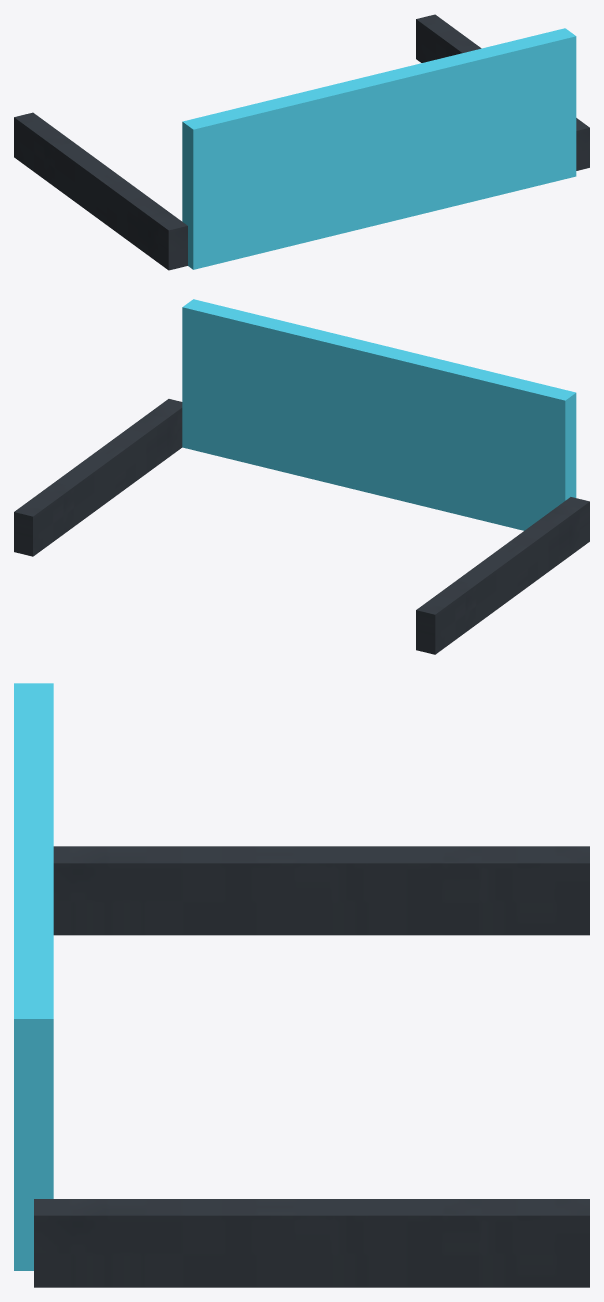
Rendered from acc_holo_visor.glb.
The picture shows the model from 3 angles, top to bottom: view 1: azimuth 30°, elevation 25°; view 2: azimuth 150°, elevation 25°; view 3: azimuth 270°, elevation 25°; orthographic projection. The views are drawn at different scales.
Visible parts, largest first — view 1: acc_holo_visor; view 2: acc_holo_visor; view 3: acc_holo_visor.
Part boxes in pixels (<box>): acc_holo_visor: <box>14,14,589,270</box>; acc_holo_visor: <box>14,299,589,654</box>; acc_holo_visor: <box>14,683,589,1287</box>.
Size of the model in its own units: 0.22 by 0.07 by 0.145.
2 materials, 2 textured.
